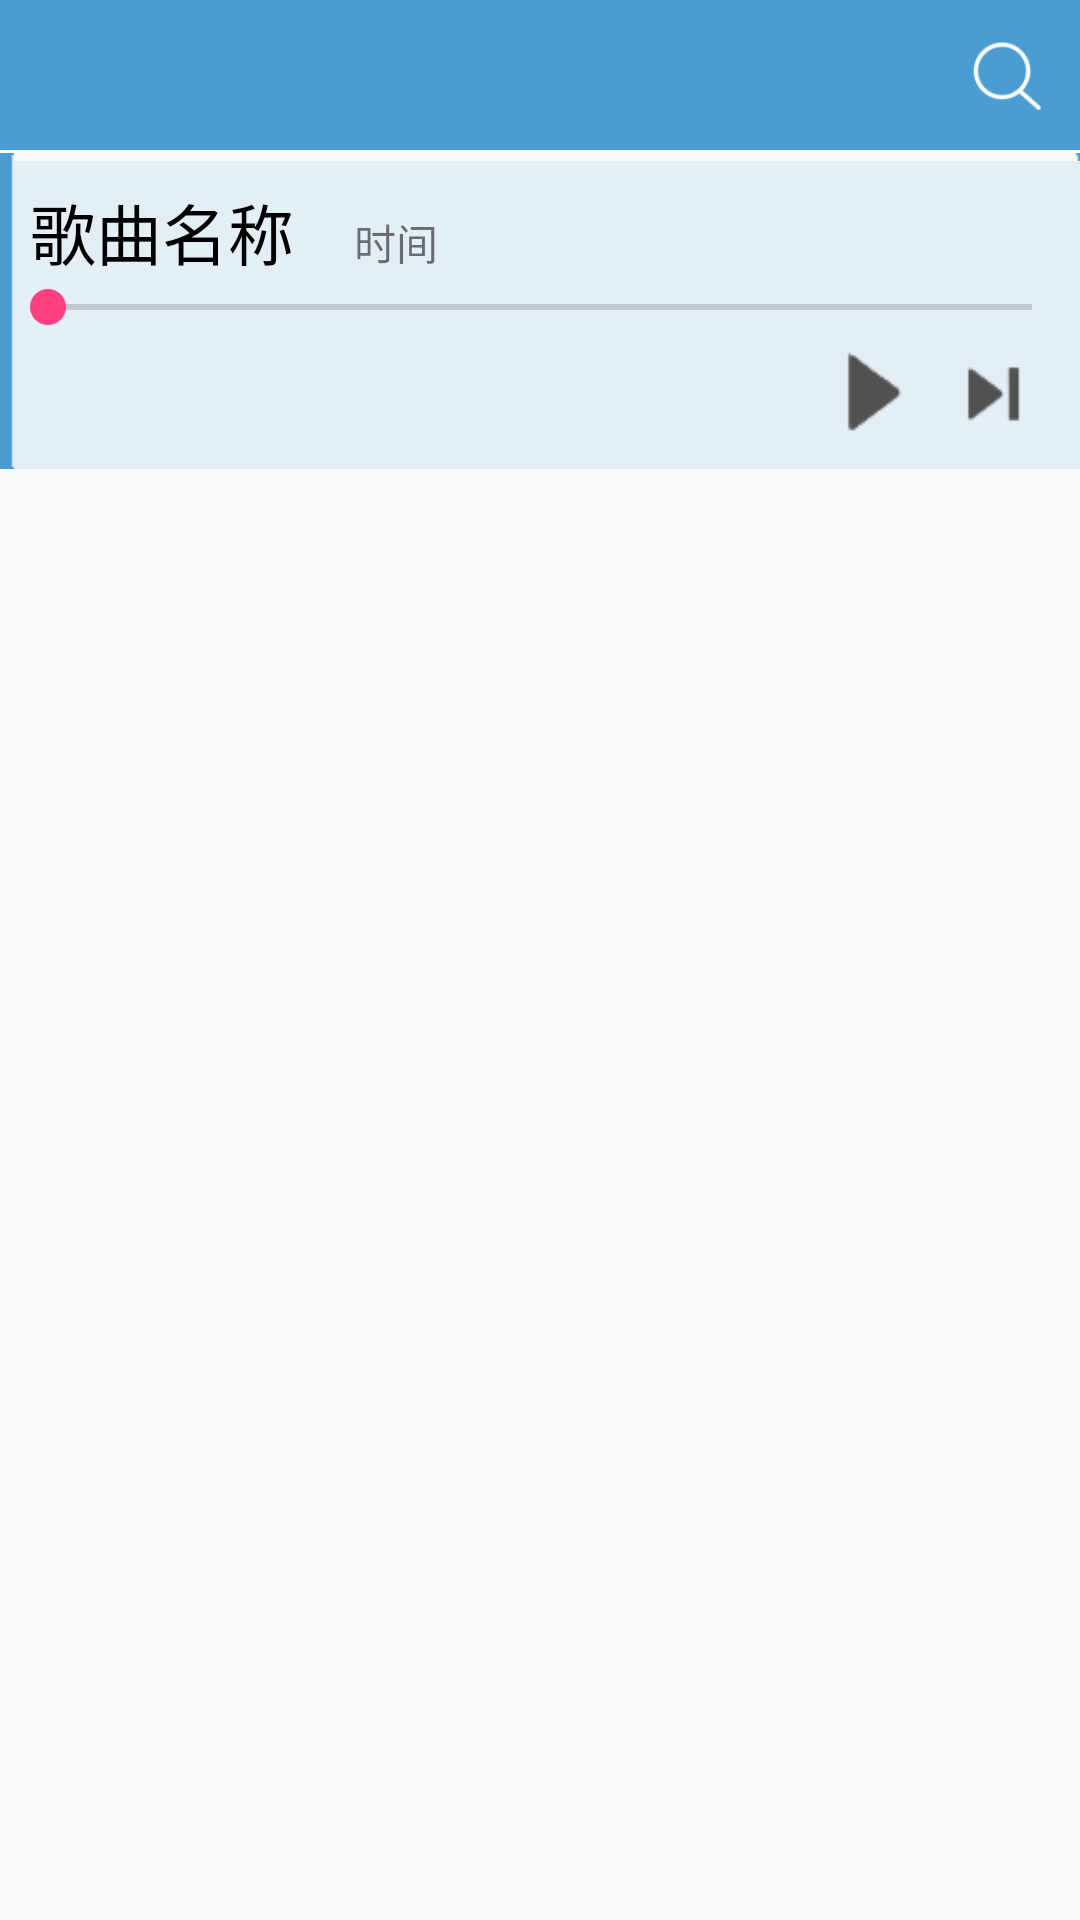

Icon bounding boxes for this 1080px x 1920px phone screenshot, format (x1, y1, x2, y2):
play next: (968, 367, 1020, 421)
play start: (848, 353, 901, 431)
